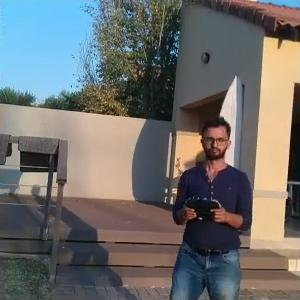follow: (162, 113, 254, 298)
